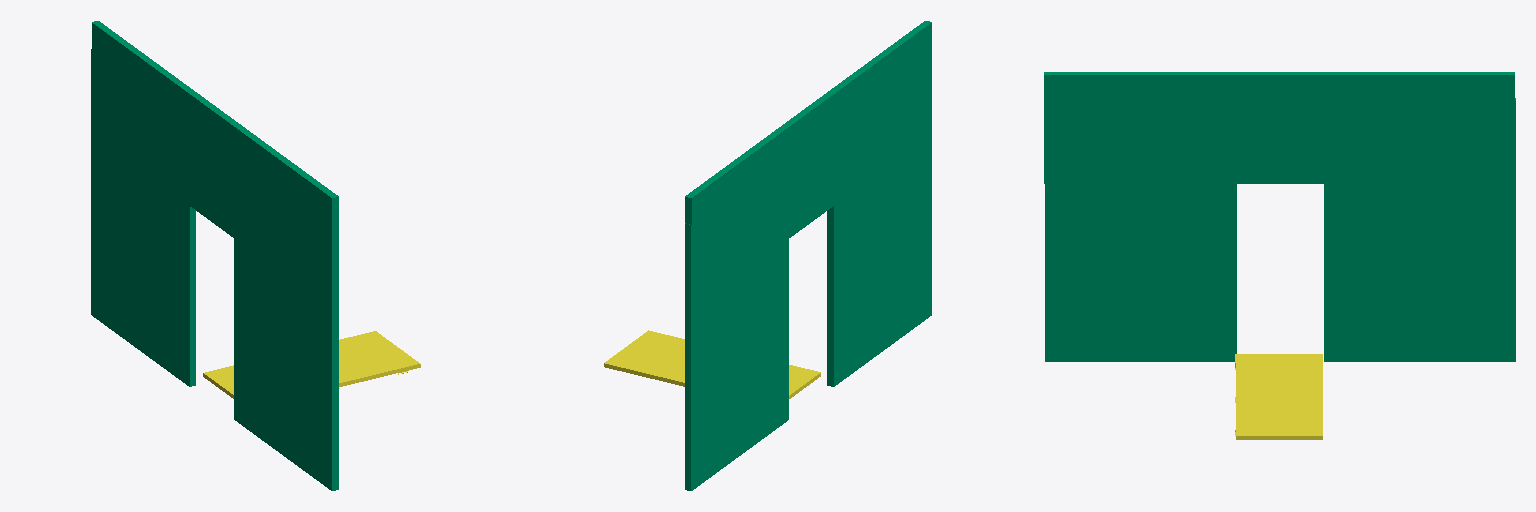
robot.urdf — door_test:
<robot name = 'door_test' xmlns:xacro="http://ros.org/wiki/xacro">

    <link name = 'base_link'/>

    <joint name = 'base_to_door_fake_link' type = 'fixed'>
        <parent link = 'base_link'/>
        <origin xyz = '0.5 0 0.0' rpy = '0 0 3.14159'/>
        <child link = 'door_fake_link'/>
    </joint>

    <link name = 'door_fake_link'/>

    <joint name = 'base_joint' type = 'fixed'>
        <parent link = 'base_link'/>
        <origin xyz = '0 -0.5 0.0' rpy='0 0 0'/>
        <!-- if move y : the door will slide -->
        <child link = 'door_wall'/>
    </joint>

    <link name = 'door_wall'>
        <visual name = 'side_1_:hinge_side'>
            <geometry>
                <box size='0.08 2.0 3.0'/>
            </geometry>
            <origin xyz = '-0.04 -0.92 1.5' rpy = '0 0 0'/>
        </visual>
        <visual name='side_2 wall'>
            <geometry>
                <box size='0.08 2.0 3.0'/>
            </geometry>
            <origin xyz = '-0.04 1.99 1.5' rpy = '0 0 0'/>
        </visual>
        <visual name = 'top'>
            <geometry>
                <box size='0.08 4.91 1.26'/>
            </geometry>
            <origin xyz = '-0.04 0.532 2.67' rpy = '0 0 0'/>
        </visual>

        <collision name="side_1_:hinge_side">
            <geometry>
                <box size='0.08 2.0 3.0'/>
            </geometry>
            <origin xyz = '-0.04 -0.92 1.5' rpy = '0 0 0'/>
        </collision>
        <collision name="side_2_frame">
            <geometry>
                <box size = '0.05029 0.06858 2.10820'/>
            </geometry>
            <origin xyz="-0.02 1.02 1.05" rpy="0 0 0"/>
        </collision>
        <collision name = 'side_2_wall'>
            <geometry>
                <box size='0.08 2.0 3.0'/>
            </geometry>
            <origin xyz = '-0.04 2.02 1.5' rpy = '0 0 0'/>
        </collision>
        <collision name="top">
            <geometry>
                <box size='0.08 4.91 1.26'/>
            </geometry>
            <origin xyz = '-0.04 0.532 2.67' rpy = '0 0 0'/>
        </collision>
        
        <inertial>
            <origin xyz="0 0 0" rpy="0 0 0"/>
            <mass value="10000.0"/>
            <inertia ixx="0.0" ixy="0.0" ixz="0.0" iyy="0.0" iyz="0.0" izz="0.0"/>
        </inertial>
    </link>

    <joint name = 'door_hinge' type = 'revolute'>
        <axis xyz = '0 0 1' rpy = '0 0 0'/>
        <origin xyz = '0.025 0.06858 0' rpy='0 3.14159 0'/>
        <limit lower = '0' upper = '1.57' effort='100' velocity="100.00"/>
        <dynamics damping="10.0" friction="0.0"/>
        <parent link = 'door_wall'/>
        <child link = 'door'/>
    </joint>

    <link name = 'door'>
        <visual>
            <geometry>
                <mesh filename = './meshes/door.dae'/>
            </geometry>
            <origin xyz = '-0.05 0 0' rpy = '-1.57 0 1.57'/>
            <color rgba = '0.5 0.5 0.5 1.0'/>
        </visual>
        <collision name="door_collision">
            <geometry>
                <mesh filename = './meshes/door.dae'/>
            </geometry>
            <origin xyz = '-0.05 0 0' rpy = '-1.57 0 1.57'/>
        </collision>
        <inertial>
            <origin xyz="0.4569 0.0349 1.016" rpy="0 0 0"/>
            <mass value="41.3256"/>
            <inertia ixx="14.2053" ixy="0.0004" ixz="0.0000" iyy="17.1997" iyz="0.0000" izz="3.0298"/>
        </inertial>
    </link>

    <joint name = 'door_handle' type = 'revolute'>
        <axis xyz = '-1 0 0' rpy = '0 0 0 '/>
        <parent link = 'door'/>
        <origin xyz = '0.035 0.75 -1.0'/>
        <limit lower = '0' upper = '0.5236' effort='100' velocity="1000.00"/>
        <dynamics damping="0.0" friction="0.0"/>
        <child link = 'door_handles'/>
    </joint>

    <link name = 'door_handles'>
        <visual>
            <geometry>
                <mesh filename = './meshes/door_handle.dae'/>
            </geometry>
            <origin xyz = '0 0 0' rpy = '0 3.141592 1.57'/>
            <color rgba = '0.55 0.5 0.5 1.0'/>
        </visual>
        <visual>
            <geometry>
                <mesh filename = './meshes/door_handle.dae'/>
            </geometry>
            <origin xyz = '0.04 0 0' rpy = '0 0 -1.57'/>
             <color rgba = '0.5 0.5 0.5 1.0'/>
        </visual>
        <collision name="door_handles_collision">
            <geometry>
                <mesh filename="./meshes/door_handle_collision.dae"/>
            </geometry>
            <origin xyz = '0 0 0' rpy = '0 3.141592 1.57'/>
        </collision>
        <collision name="door_handles_collision">
            <geometry>
                <mesh filename="./meshes/door_handle_collision.dae"/>
            </geometry>
            <origin xyz = '0.045 0 0' rpy = '0 0 -1.57'/>
        </collision>
        <inertial>
            <origin xyz="0.0 0.0 0.0" rpy="3.14159 0 1.57"/>
            <mass value="1.0"/>
        </inertial>
    </link>
    
    <joint name = 'handle2latch' type = 'fixed'>
        <parent link = 'door_handles'/>
        <child link = 'door_latch'/>
    </joint>

    <link name='door_latch'>
        <collision>
            <geometry>
                <box size='0.001 0.14 0.01'/>
            </geometry>
            <origin xyz = '0.043 0.1 0' rpy = '0 0 0'/>
        </collision>
    </link>

    <joint name = 'handle2dsr_pose' type = 'fixed'>
        <parent link = 'door_handles'/>
        <child link = 'dsr_pose'/>
        <origin xyz = '-0.03 -0.13 0.0' rpy = '3.14159265 0 3.14159265'/>
    </joint>

    <link name="dsr_pose"/>

</robot>

--- Facts derived from the render (not from the file) ---
Views: 3 orthographic renders of the robot side by side, from view 1: azimuth 30°, elevation 25°; view 2: azimuth 150°, elevation 25°; view 3: azimuth 270°, elevation 25°.
Model door_test with 7 links and 6 joints (2 revolute, 4 fixed), rooted at base_link, posed all joints at 0.
Links seen in each view (by area): view 1: door_wall, door; view 2: door_wall, door; view 3: door_wall, door.
Link boxes in pixels (x1,y1,x2,y2): door_wall: (91,21,338,490); door: (203,331,420,398); door_wall: (685,21,931,490); door: (604,330,820,398); door_wall: (1044,72,1515,361); door: (1235,354,1322,439).
Bounding box of the posed robot: 2.19 × 4.91 × 3.3 m (x, y, z).
1 mesh visuals loaded from 2 distinct referenced files (1 Collada DAE); not drawn: 2 (reference not matched to a file when rendering).